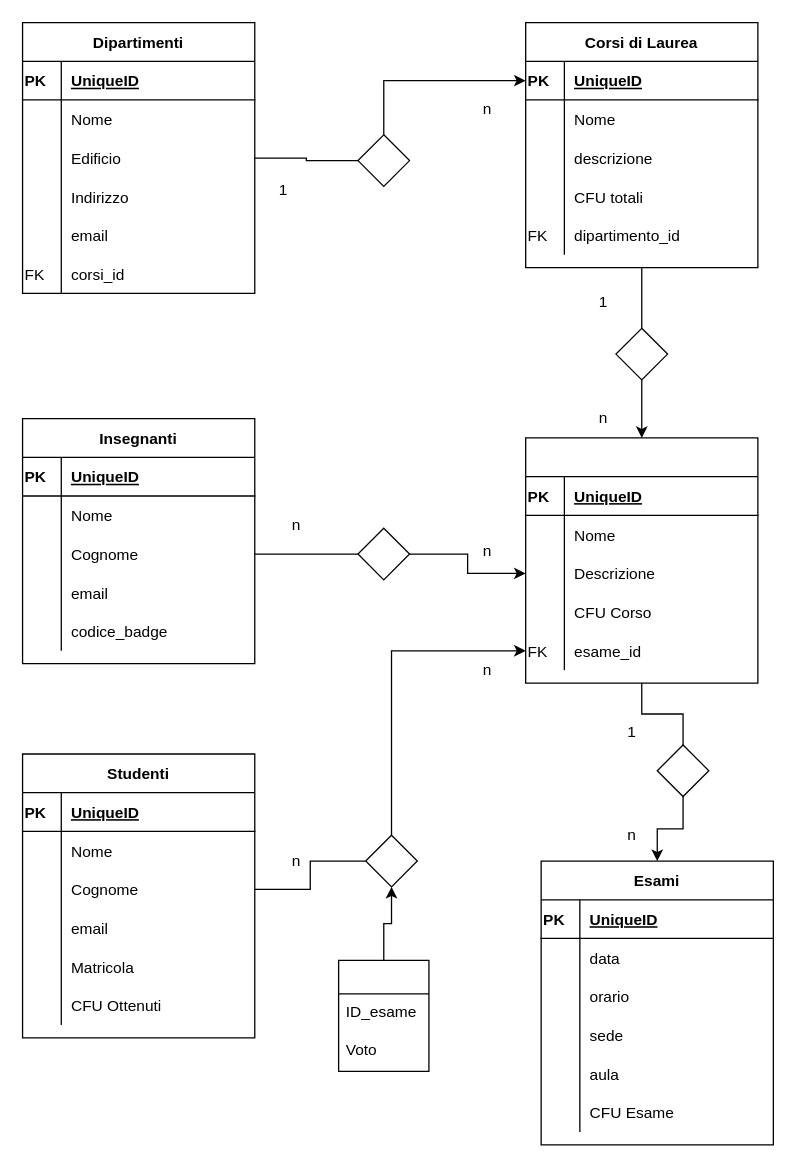
Some shapes in this 796 by 1167 pixel diagram are drawn without their labels. Here are the shapes that lost their labels. From the top down, the box of each, then its label:
(524, 437, 758, 683): Corsi
(337, 959, 429, 1071): List
